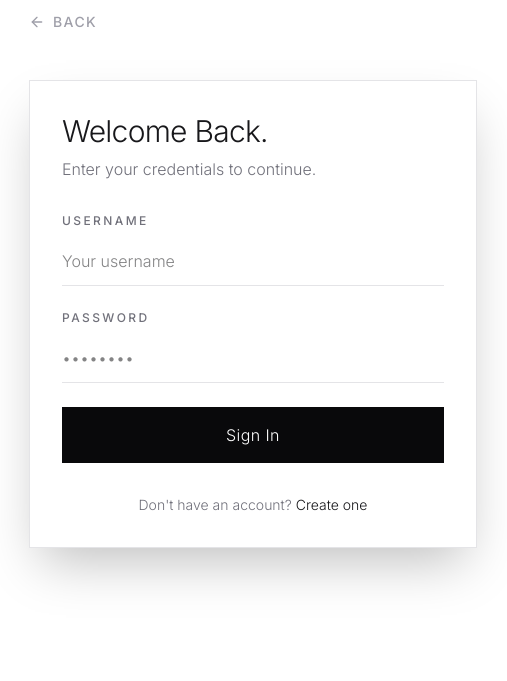
Test: Login component › shows an error message when login fails
Type "baduser" into the field with placeholder "Your username" at (253, 262), box x1=62 y1=237 x2=444 y2=286
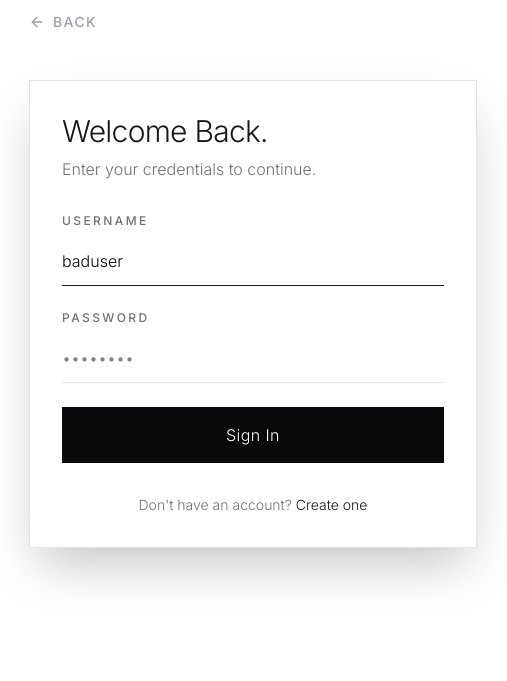
Type "wrongpass" into the password field with placeholder "••••••••" at (253, 358), box x1=62 y1=334 x2=444 y2=383
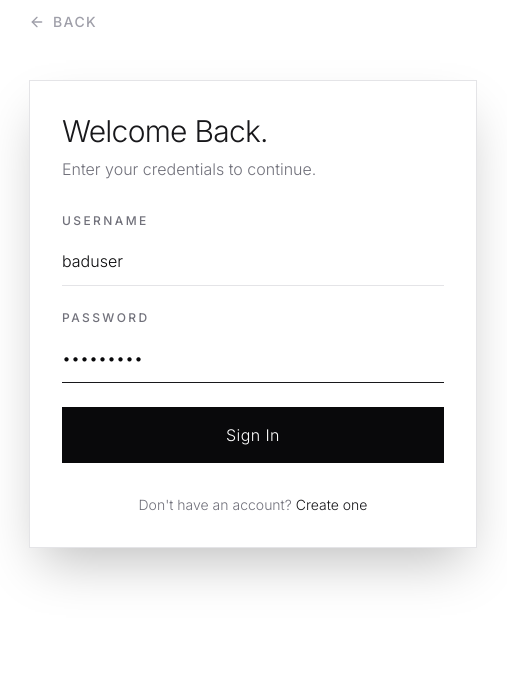
Click the button "Sign In" at (253, 435), box x1=62 y1=407 x2=444 y2=463
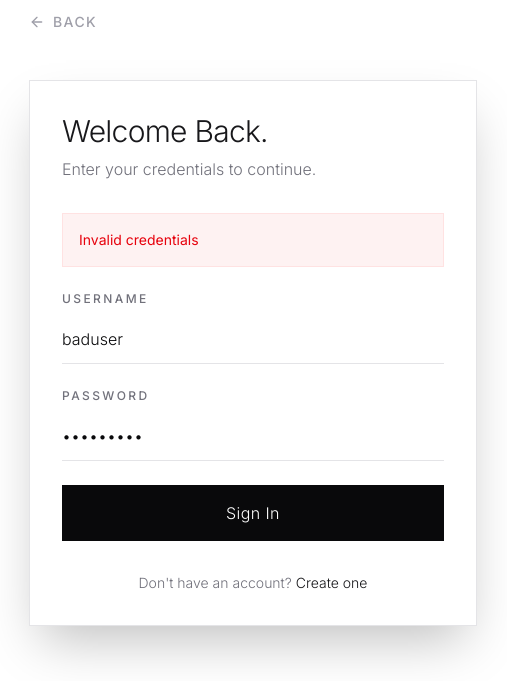
Result: the text "Invalid credentials" is shown at x1=62 y1=213 x2=444 y2=267
